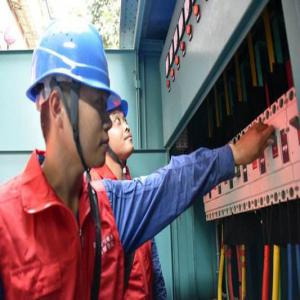blue: (30, 16, 110, 177), (104, 87, 136, 162)
